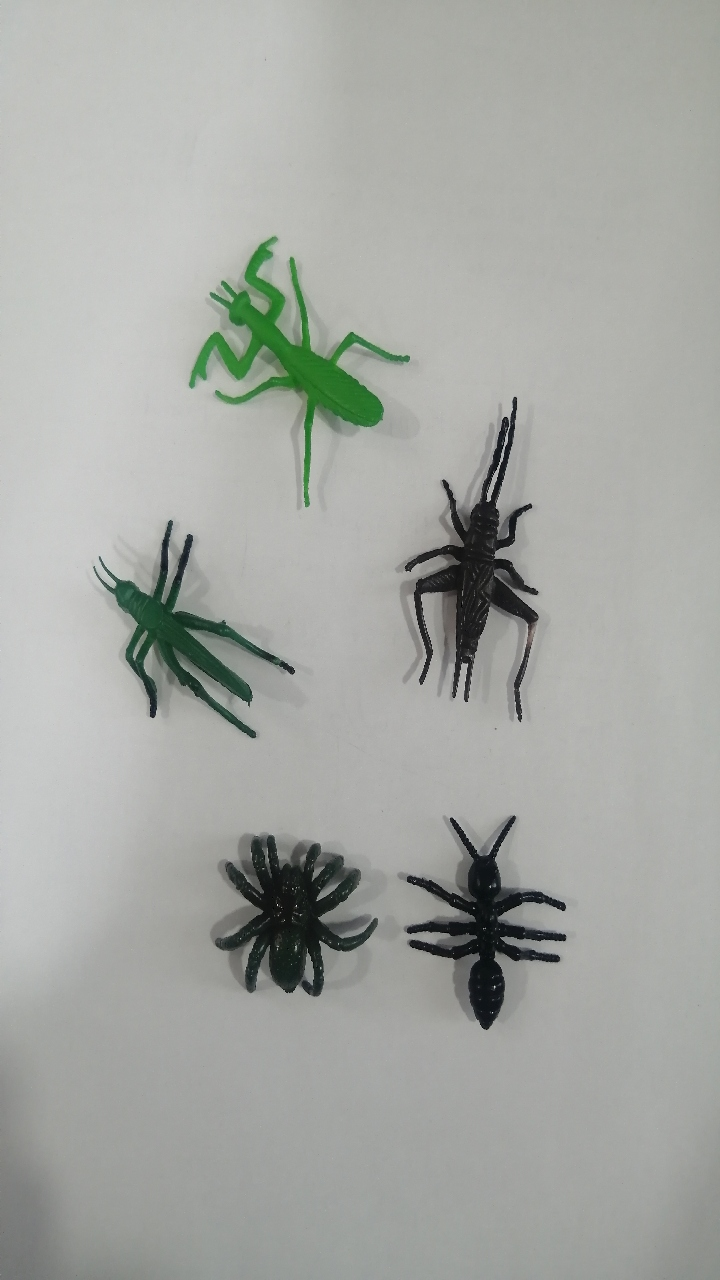intruso: (149, 189, 429, 514), (64, 480, 318, 754), (375, 382, 568, 739), (372, 779, 601, 1060), (186, 789, 383, 1039)
